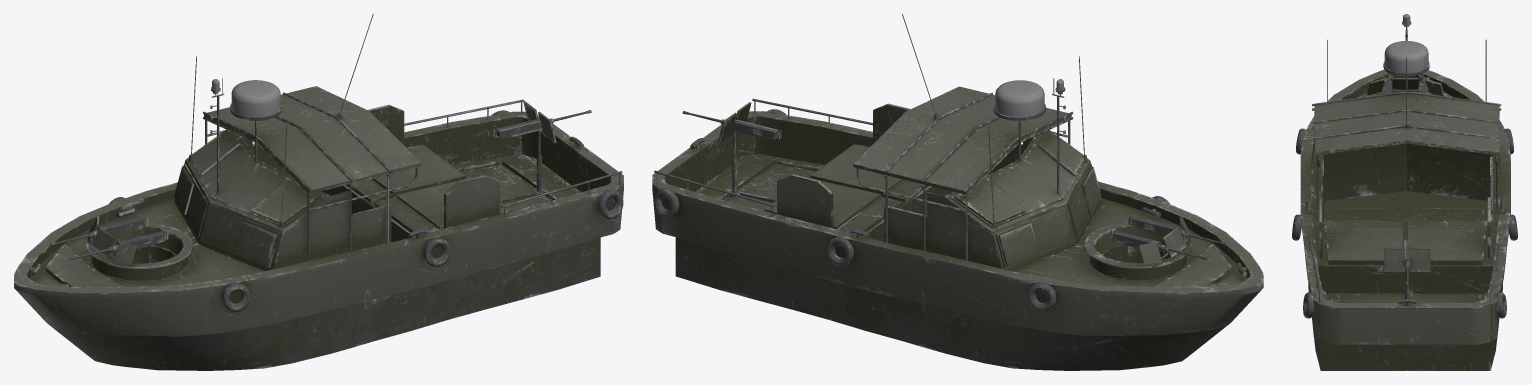
Rendered from boat.glb.
The picture shows the model from 3 angles, left to right: view 1: azimuth 30°, elevation 25°; view 2: azimuth 150°, elevation 25°; view 3: azimuth 270°, elevation 25°; orthographic projection. The views are drawn at different scales.
Parts seen in each view (by area): view 1: Object_4; view 2: Object_4; view 3: Object_4.
Boxes of the visible parts, x1,y1,x2,y2 form: Object_4: [14, 14, 623, 370]; Object_4: [652, 14, 1263, 370]; Object_4: [1292, 14, 1517, 370].
Bounding box in the file's own units: 7.98 × 3.67 × 3.1.
1 material, 1 textured.
